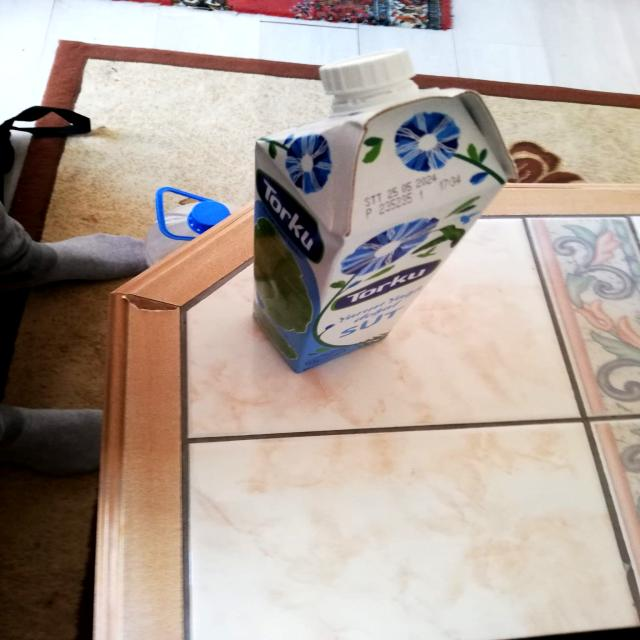milk: (239, 35, 518, 377)
